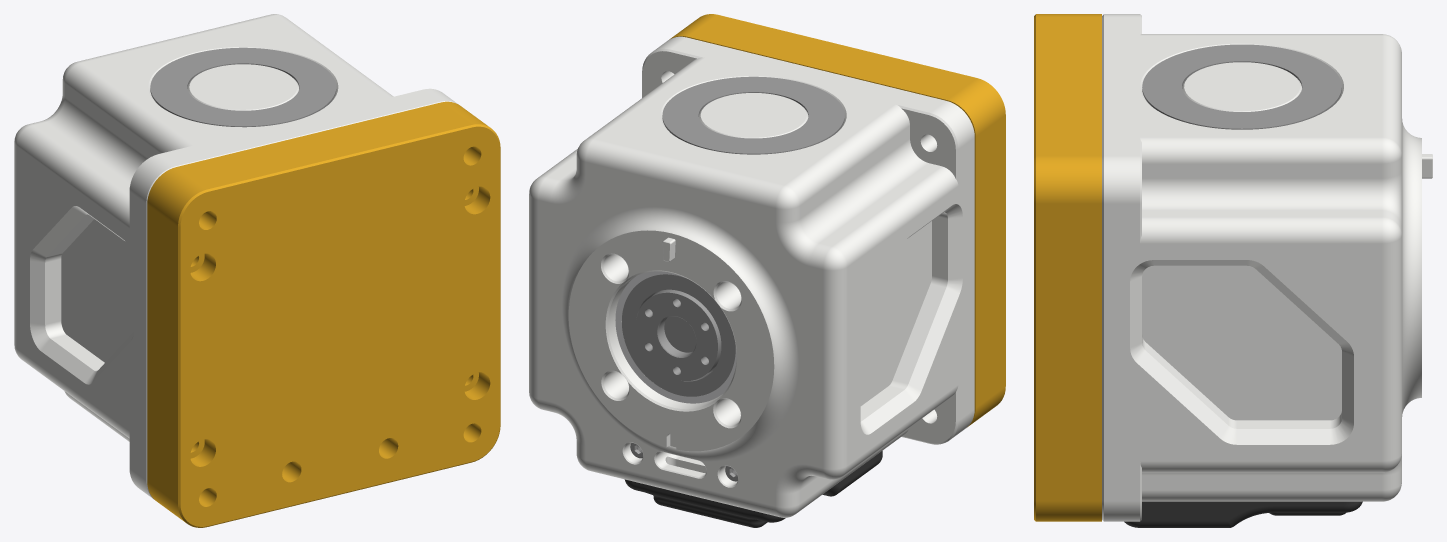
3 views of the same model, side by side, from view 1: azimuth 30°, elevation 25°; view 2: azimuth 150°, elevation 25°; view 3: azimuth 270°, elevation 25° (orthographic). The views are drawn at different scales.
Visible parts, largest first — view 1: base_link; view 2: base_link; view 3: base_link.
Part boxes in pixels (x1,y1,x2,y2): base_link: (14, 14, 500, 527); base_link: (529, 14, 1005, 527); base_link: (1034, 14, 1432, 527).
Bounding box in the file's own units: 0.1 × 0.0997 × 0.1138.
